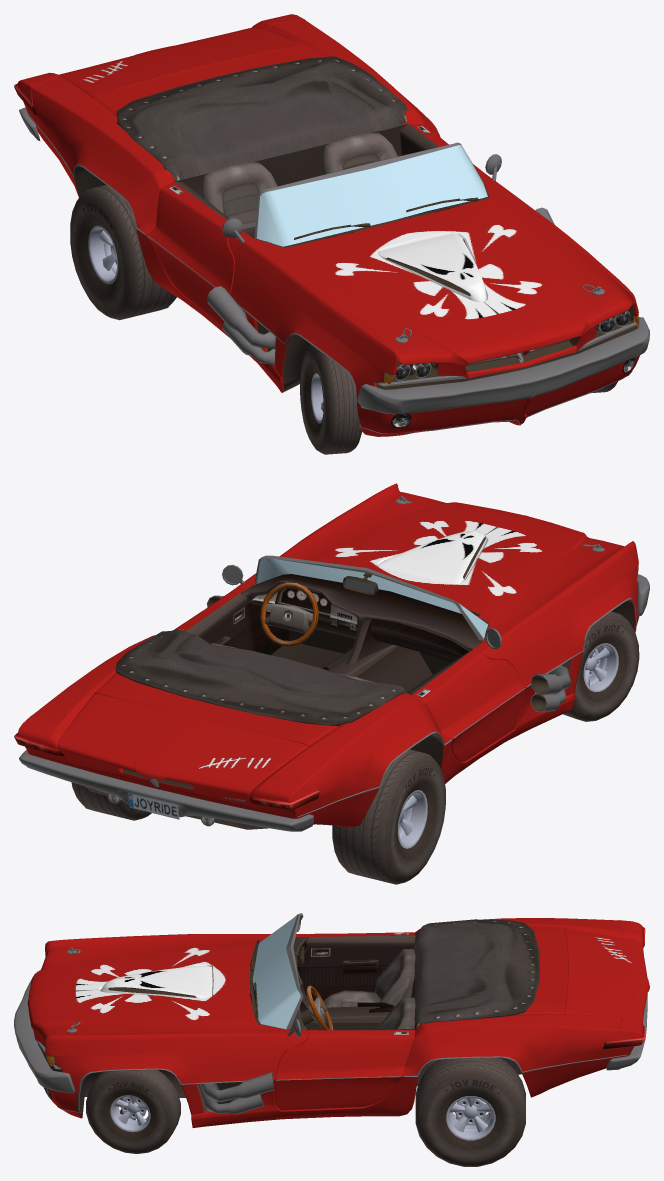
File: Raven_drag_red.fbx
The picture shows the model from 3 angles, top to bottom: view 1: azimuth 30°, elevation 25°; view 2: azimuth 150°, elevation 25°; view 3: azimuth 270°, elevation 25°; orthographic projection. The views are drawn at different scales.
Parts seen in each view (by area): view 1: node_id145, node_id143, node_id137, node_id45, node_id77, node_id116, node_id141, node_id139, node_id147, node_id118, node_id41, node_id104 (+4 smaller); view 2: node_id145, node_id141, node_id143, node_id116, node_id47, node_id118, node_id102, node_id137, node_id139, node_id153, node_id100, node_id114 (+6 smaller); view 3: node_id145, node_id143, node_id141, node_id109, node_id95, node_id137, node_id77, node_id111, node_id45, node_id41, node_id107, node_id139 (+7 smaller).
Boxes of the visible parts, box(x1,y1,x2,y2) form: node_id145: box(17, 14, 639, 436); node_id143: box(116, 56, 406, 180); node_id137: box(256, 145, 487, 246); node_id45: box(357, 317, 649, 414); node_id77: box(202, 132, 397, 243); node_id116: box(70, 192, 133, 317); node_id141: box(174, 124, 469, 242); node_id139: box(27, 95, 636, 433); node_id147: box(256, 239, 637, 389); node_id118: box(78, 185, 176, 320); node_id41: box(207, 207, 554, 365); node_id104: box(310, 345, 361, 454); node_id145: box(17, 483, 639, 827); node_id141: box(185, 574, 486, 695); node_id143: box(115, 629, 406, 725); node_id116: box(382, 757, 445, 881); node_id47: box(19, 750, 313, 831); node_id118: box(332, 749, 437, 884); node_id102: box(572, 616, 639, 719); node_id137: box(257, 558, 487, 638); node_id139: box(147, 555, 636, 817); node_id153: box(84, 600, 634, 829); node_id100: box(583, 643, 618, 692); node_id114: box(397, 790, 427, 848); node_id145: box(27, 918, 649, 1127); node_id143: box(414, 919, 539, 1027); node_id141: box(250, 935, 415, 1030); node_id109: box(418, 1071, 522, 1165); node_id95: box(87, 1074, 172, 1153); node_id137: box(252, 915, 300, 1029); node_id77: box(323, 948, 415, 1030); node_id111: box(415, 1057, 525, 1166); node_id45: box(14, 970, 75, 1093); node_id41: box(198, 1072, 273, 1114); node_id107: box(446, 1096, 495, 1140); node_id139: box(36, 913, 627, 1113).
Size of the model in its own units: 1.16 by 0.6284 by 2.27.
Materials: 60 (58 with a texture image).
